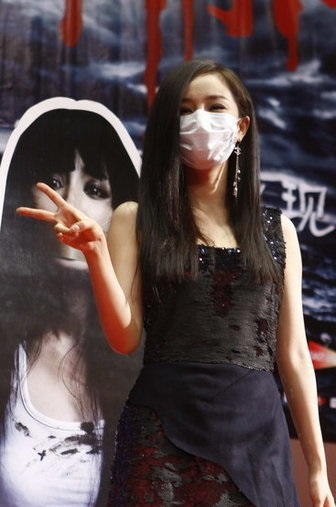face: (27, 136, 114, 265)
face_mask: (179, 72, 237, 166)
